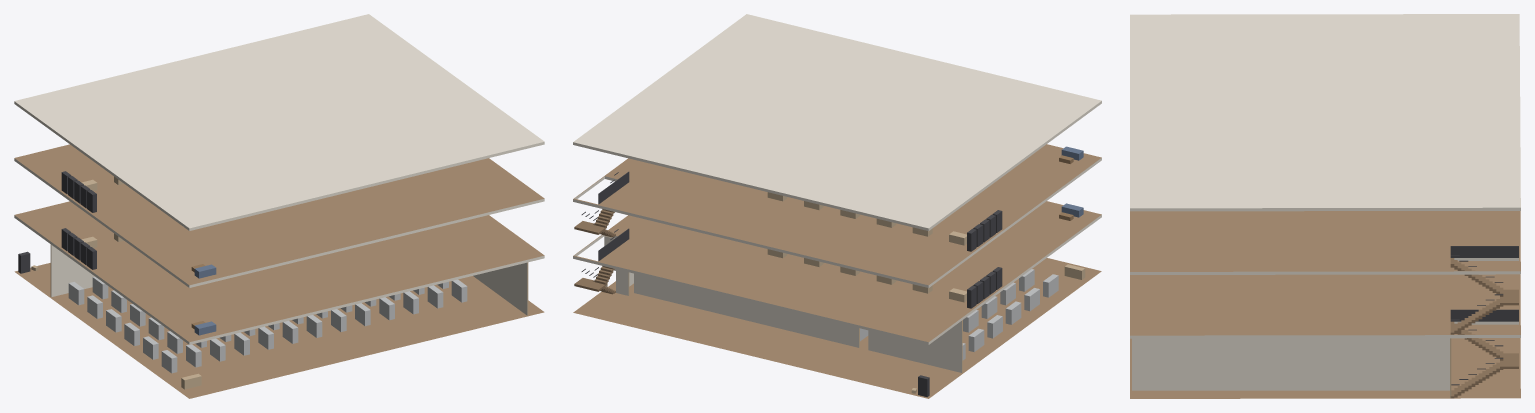
Rendered from interior.glb.
3 renders of one model, left to right at view 1: azimuth 30°, elevation 25°; view 2: azimuth 150°, elevation 25°; view 3: azimuth 270°, elevation 25°, orthographic. The views are drawn at different scales.
Parts seen in each view (by area): view 1: slabs, coarse-s0, partitions, coarse-s2, coarse-s1; view 2: slabs, partitions, coarse-s0, stair, coarse-s2, coarse-s1; view 3: slabs, partitions, stair.
Part boxes in pixels (x1,y1,x2,y2): slabs: (14,14,544,398); coarse-s0: (18,251,467,389); partitions: (50,244,528,315); coarse-s2: (61,171,216,278); coarse-s1: (61,228,216,335); slabs: (573,14,1101,398); partitions: (604,236,962,372); coarse-s0: (860,264,1085,397); stair: (574,171,629,294); coarse-s2: (767,146,1083,251); coarse-s1: (767,203,1083,308); slabs: (1130,14,1520,398); partitions: (1132,338,1451,398); stair: (1450,246,1518,398).
Bounding box in the file's own units: 35.38 × 16.2 × 30.06.
